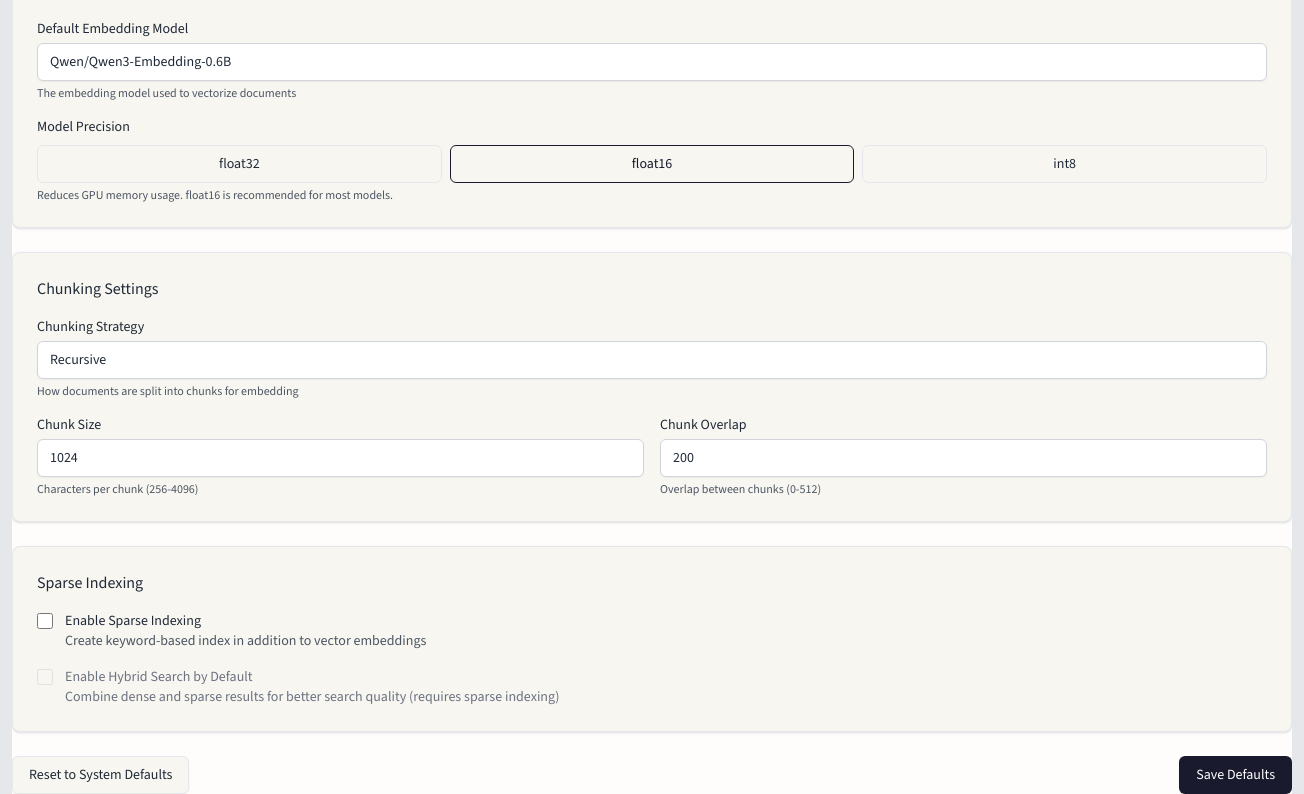
Test case: CollectionDefaultsSettings › form interactions › enables hybrid checkbox when sparse is enabled
(page scrolled)
# First checkbox is sparse indexing, second is hybrid
Click the checkbox next to "Enable Sparse Indexing". click: x=45, y=621
box: [37,613,53,629]
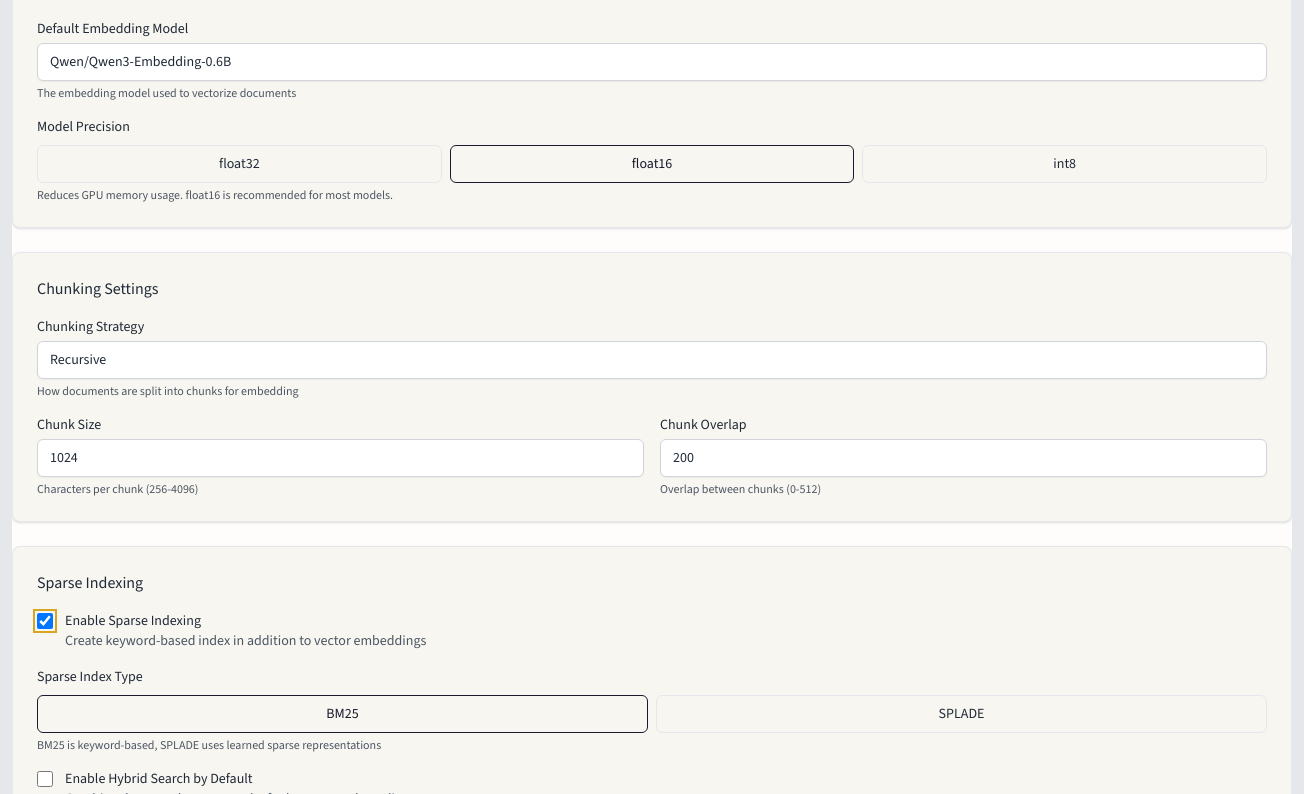
Now the checkbox next to "Enable Hybrid Search by Default" is enabled, box [37,771,53,787]
